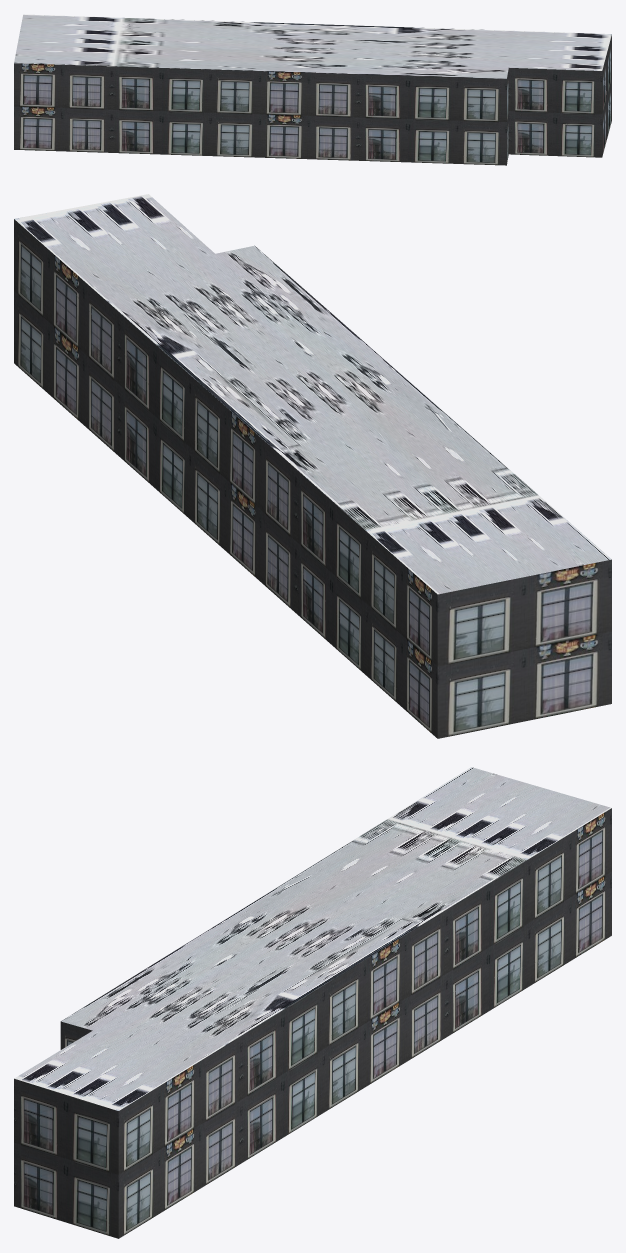
The model's file is ResTex__5292.fbx.
The picture shows the model from 3 angles, top to bottom: view 1: azimuth 30°, elevation 25°; view 2: azimuth 150°, elevation 25°; view 3: azimuth 270°, elevation 25°; orthographic projection. The views are drawn at different scales.
Parts seen in each view (by area): view 1: CityEngineMaterial_22_m, CityEngineMaterial_8_m; view 2: CityEngineMaterial_22_m, CityEngineMaterial_8_m; view 3: CityEngineMaterial_22_m, CityEngineMaterial_8_m.
Part boxes in pixels (x1,y1,x2,y2): CityEngineMaterial_22_m: [14, 35, 611, 165]; CityEngineMaterial_8_m: [14, 14, 611, 78]; CityEngineMaterial_22_m: [14, 219, 611, 738]; CityEngineMaterial_8_m: [14, 194, 611, 594]; CityEngineMaterial_22_m: [14, 808, 611, 1238]; CityEngineMaterial_8_m: [14, 767, 611, 1110].
Size of the model in its own units: 34.67 by 6 by 25.46.
2 materials, 2 textured.
